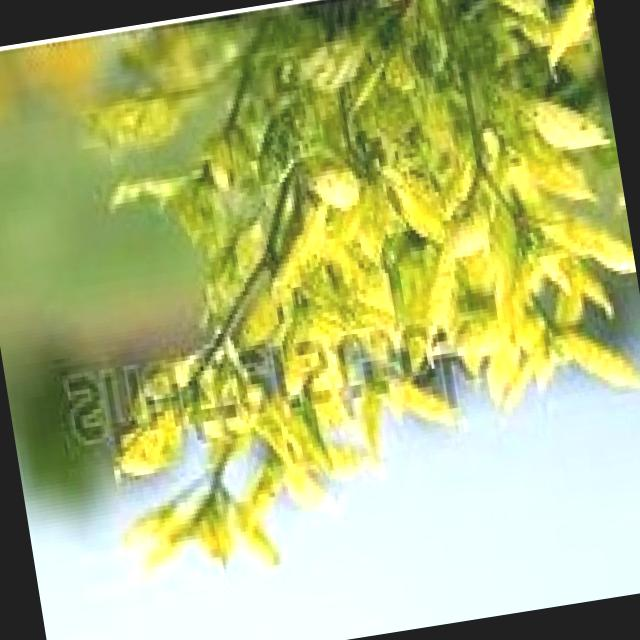yellowish leaf: (35, 0, 640, 600)
